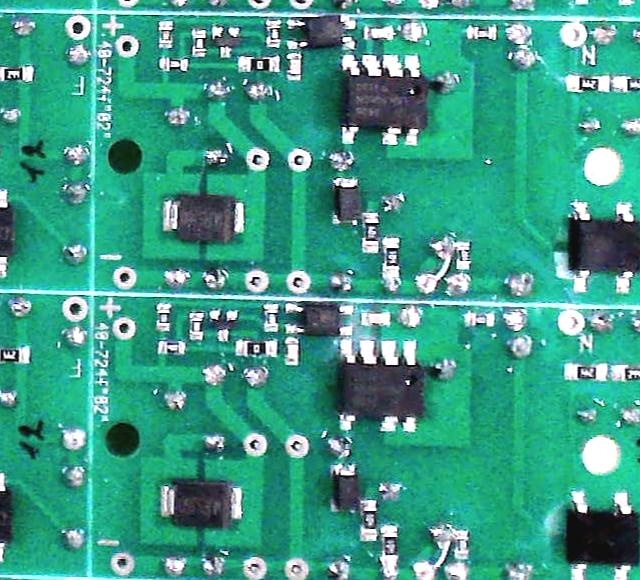chip-capacitor: (285, 338, 299, 366), (362, 312, 390, 326), (288, 53, 301, 80), (366, 28, 392, 40)
chip-resistor: (236, 340, 276, 357), (565, 364, 607, 380), (360, 501, 377, 540), (362, 214, 379, 252), (568, 76, 608, 92), (382, 238, 398, 277), (380, 526, 397, 562), (0, 65, 33, 82), (240, 57, 276, 72), (610, 365, 640, 381), (0, 348, 30, 363), (454, 530, 469, 559), (613, 77, 640, 93), (262, 305, 278, 331), (466, 312, 495, 326), (189, 312, 203, 340), (468, 26, 495, 40), (157, 341, 184, 355), (160, 58, 188, 71), (456, 241, 469, 269), (156, 304, 169, 331), (158, 22, 171, 48), (192, 30, 205, 56), (267, 22, 280, 47)
diode: (162, 194, 246, 243), (159, 479, 243, 527), (330, 464, 359, 511), (334, 178, 358, 226)
ic: (337, 338, 423, 434), (340, 54, 426, 145), (567, 200, 640, 294), (564, 489, 640, 579), (285, 16, 357, 51), (284, 303, 352, 336)
transistor: (208, 310, 236, 341), (212, 27, 239, 57)
